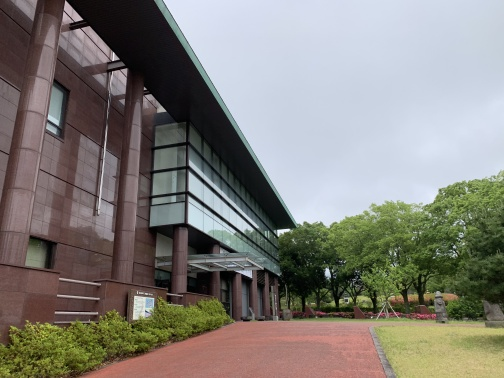Museum: (48, 29, 299, 349)
